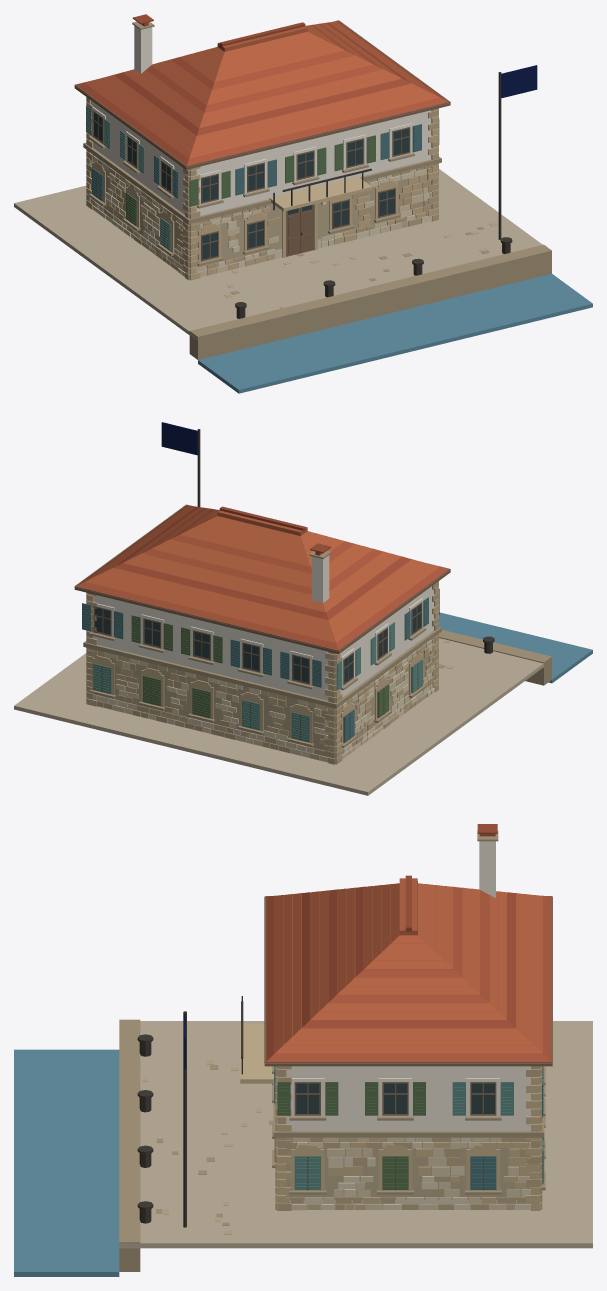
The model's file is liman-idare.glb.
3 renders of one model, top to bottom at view 1: azimuth 30°, elevation 25°; view 2: azimuth 150°, elevation 25°; view 3: azimuth 270°, elevation 25°, orthographic. The views are drawn at different scales.
Visible parts, largest first — view 1: zemin, kiremit1, deniz, tas_koyu, badana, tas2, kiremit2, ahsap, cam, tas3, harc, kiremit4 (+8 smaller); view 2: kiremit1, zemin, badana, kiremit2, tas2, tas_koyu, tas3, ahsap, harc, kiremit4, deniz, tas1 (+7 smaller); view 3: zemin, kiremit1, deniz, kiremit2, badana, tas_koyu, tas2, kiremit4, harc, tas3, ahsap, tas1 (+6 smaller).
Boxes of the visible parts, left/top/right/bottom form: zemin: left=14, top=169, right=542, bottom=341; kiremit1: left=85, top=21, right=439, bottom=158; deniz: left=198, top=274, right=592, bottom=393; tas_koyu: left=83, top=21, right=551, bottom=359; badana: left=91, top=26, right=431, bottom=215; tas2: left=86, top=116, right=438, bottom=280; kiremit2: left=74, top=21, right=450, bottom=167; ahsap: left=74, top=20, right=450, bottom=261; cam: left=94, top=113, right=408, bottom=259; tas3: left=86, top=97, right=497, bottom=308; harc: left=91, top=160, right=431, bottom=267; kiremit4: left=114, top=14, right=411, bottom=135; kiremit1: left=85, top=505, right=439, bottom=642; zemin: left=14, top=638, right=543, bottom=795; badana: left=91, top=555, right=434, bottom=700; kiremit2: left=75, top=505, right=450, bottom=651; tas2: left=86, top=586, right=438, bottom=760; tas_koyu: left=83, top=550, right=551, bottom=747; tas3: left=86, top=581, right=454, bottom=764; ahsap: left=74, top=504, right=450, bottom=742; harc: left=93, top=646, right=428, bottom=752; kiremit4: left=113, top=506, right=411, bottom=619; deniz: left=439, top=612, right=592, bottom=683; tas1: left=93, top=639, right=434, bottom=762; zemin: left=119, top=1021, right=592, bottom=1248; kiremit1: left=274, top=878, right=542, bottom=1053; deniz: left=14, top=1049, right=119, bottom=1276; kiremit2: left=264, top=834, right=552, bottom=1063; badana: left=277, top=841, right=530, bottom=1130; tas_koyu: left=119, top=831, right=545, bottom=1271; tas2: left=240, top=1023, right=542, bottom=1210; kiremit4: left=301, top=824, right=515, bottom=1028; harc: left=286, top=1137, right=530, bottom=1200; tas3: left=142, top=1060, right=542, bottom=1234; ahsap: left=264, top=896, right=552, bottom=1183; tas1: left=276, top=1137, right=529, bottom=1210.
Bounding box in the file's own units: 20.6 × 11.81 × 22.
